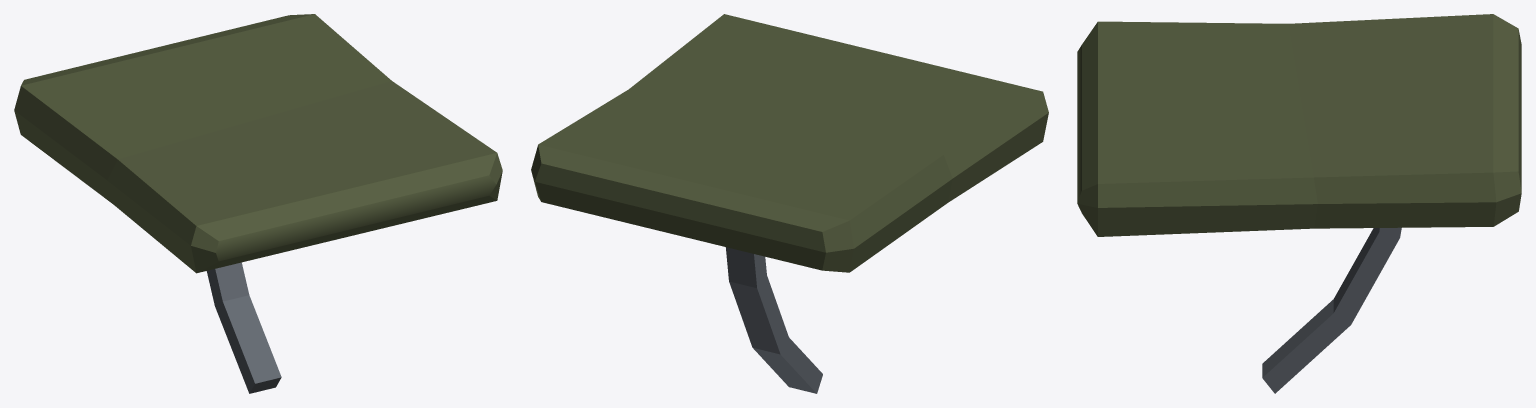
The model's file is SM_Prop_Bed_Medical_Adjust_01.glb.
The picture shows the model from 3 angles, left to right: view 1: azimuth 30°, elevation 25°; view 2: azimuth 150°, elevation 25°; view 3: azimuth 270°, elevation 25°; orthographic projection. The views are drawn at different scales.
Visible parts, largest first — view 1: SM_Prop_Bed_Medical_Adjust_01; view 2: SM_Prop_Bed_Medical_Adjust_01; view 3: SM_Prop_Bed_Medical_Adjust_01.
Boxes of the visible parts, box(x1,y1,x2,y2) form: SM_Prop_Bed_Medical_Adjust_01: box(14, 14, 502, 393); SM_Prop_Bed_Medical_Adjust_01: box(531, 14, 1048, 393); SM_Prop_Bed_Medical_Adjust_01: box(1077, 14, 1521, 393).
Size of the model in its own units: 0.7846 by 0.6432 by 0.8761.
1 material, 1 textured.
